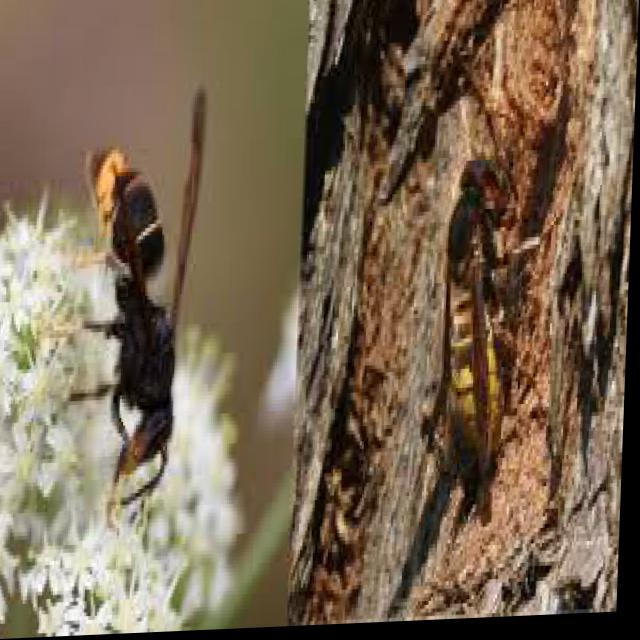Vespa Velutina: (42, 69, 227, 540), (413, 59, 569, 506)
